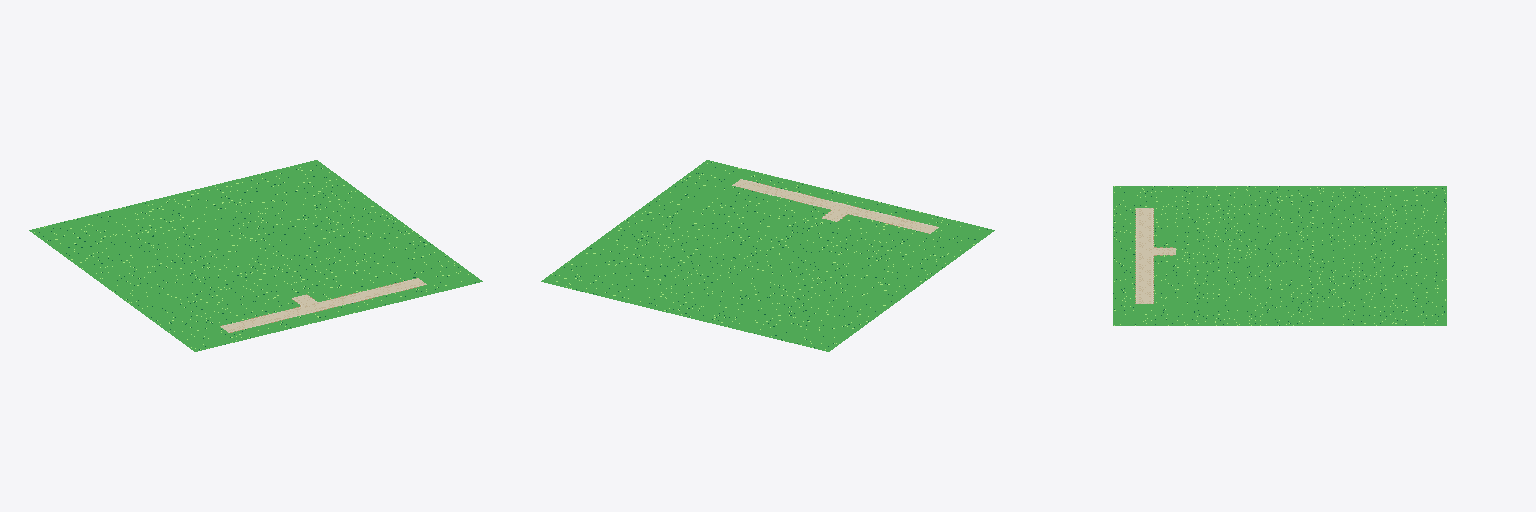
The picture shows the model from 3 angles: view 1: azimuth 30°, elevation 25°; view 2: azimuth 150°, elevation 25°; view 3: azimuth 270°, elevation 25°; orthographic projection.
Visible parts, largest first — view 1: Grid_Grid.001; view 2: Grid_Grid.001; view 3: Grid_Grid.001.
Part boxes in pixels (x1,y1,x2,y2): Grid_Grid.001: (29,160,482,351); Grid_Grid.001: (541,160,994,351); Grid_Grid.001: (1113,186,1446,325).
Size of the model in its own units: 20.48 by 0 by 20.48.
Materials: 1 (1 with a texture image).